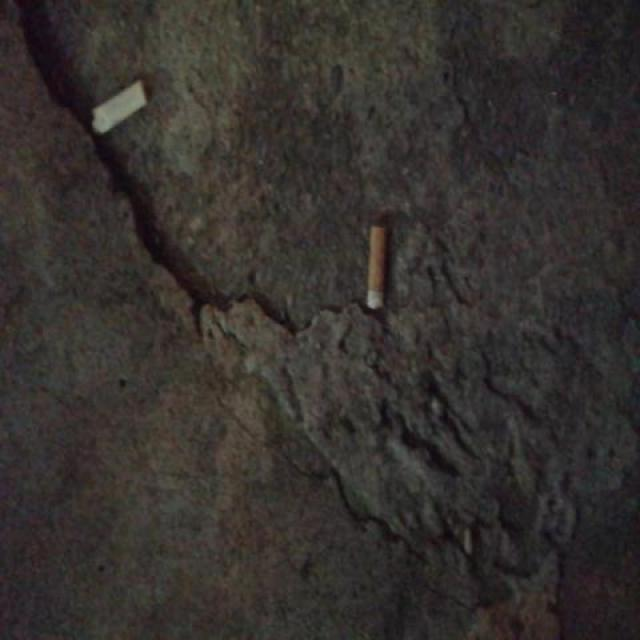non-organic waste: (87, 75, 152, 141), (360, 220, 392, 312)
